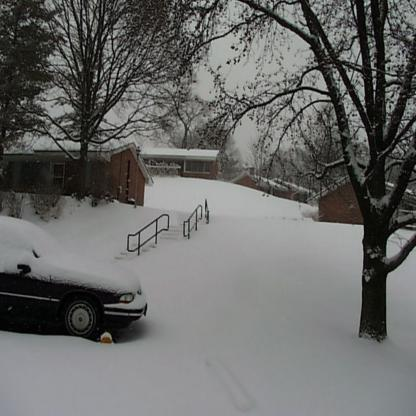car: (0, 216, 146, 341)
